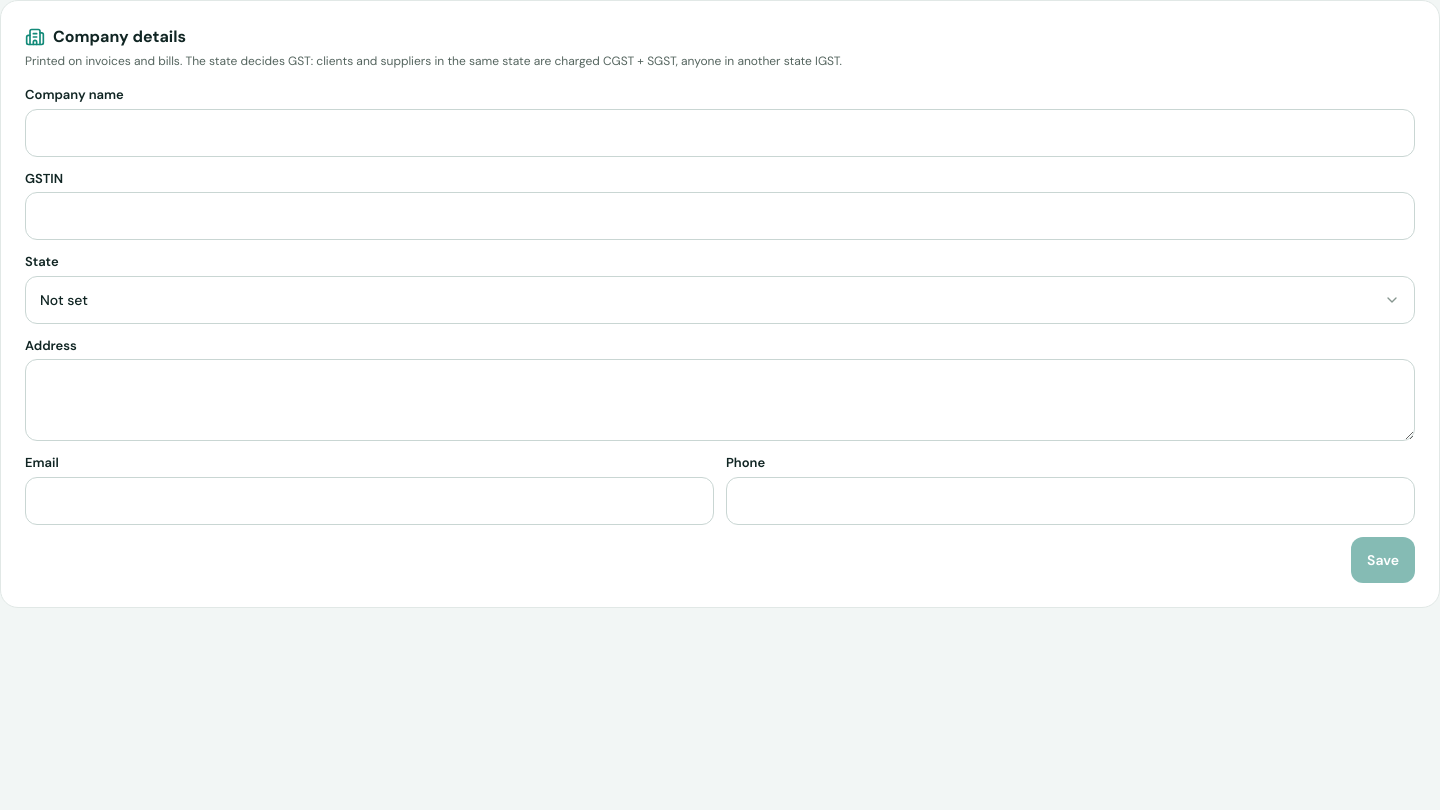
it: CompanyPanel › shows the error the server gives
Type "123" into the field labelled "GSTIN" at (720, 216), box top-left (25, 192), bottom-right (1415, 240)
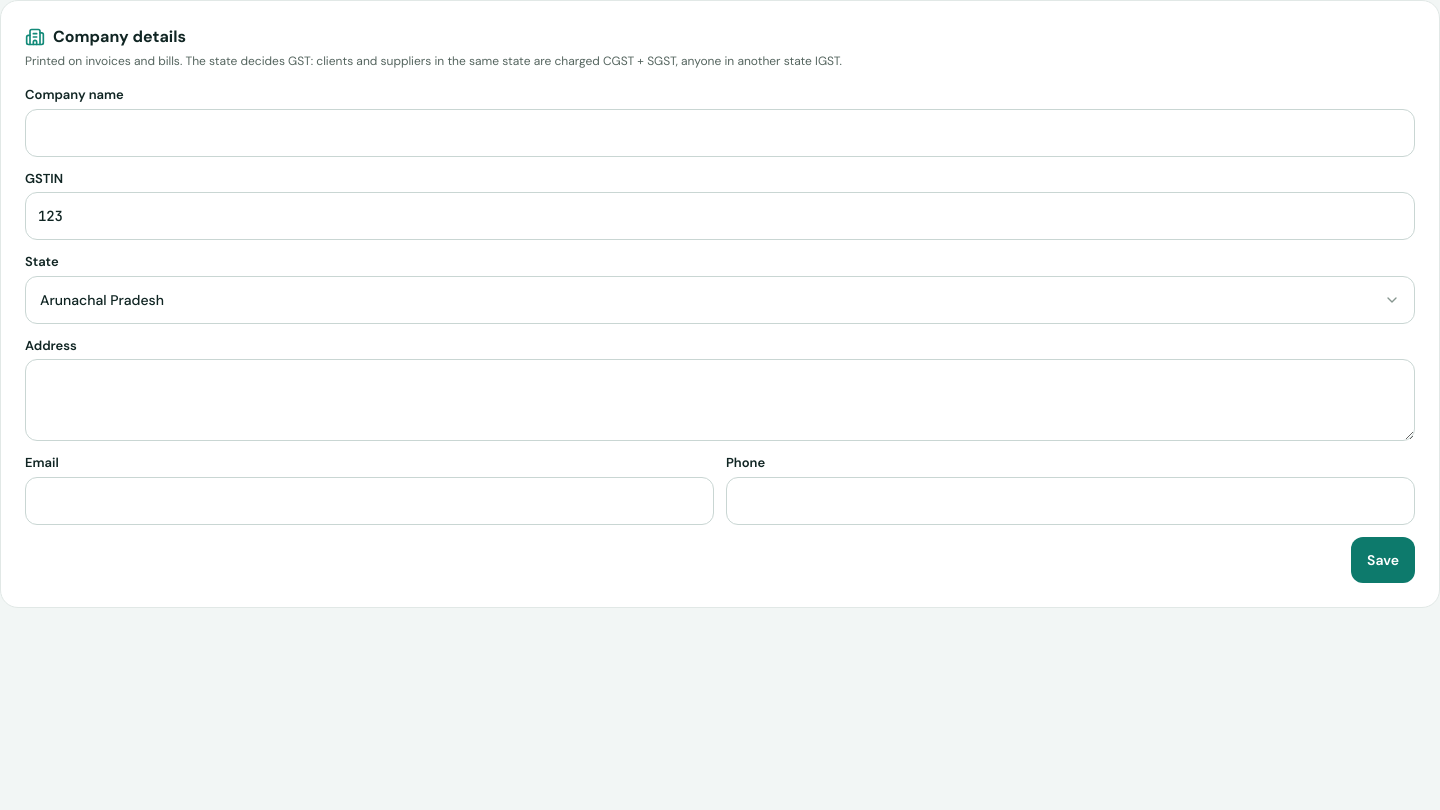
Click the button "Save" at (1383, 560), box top-left (1351, 536), bottom-right (1415, 582)
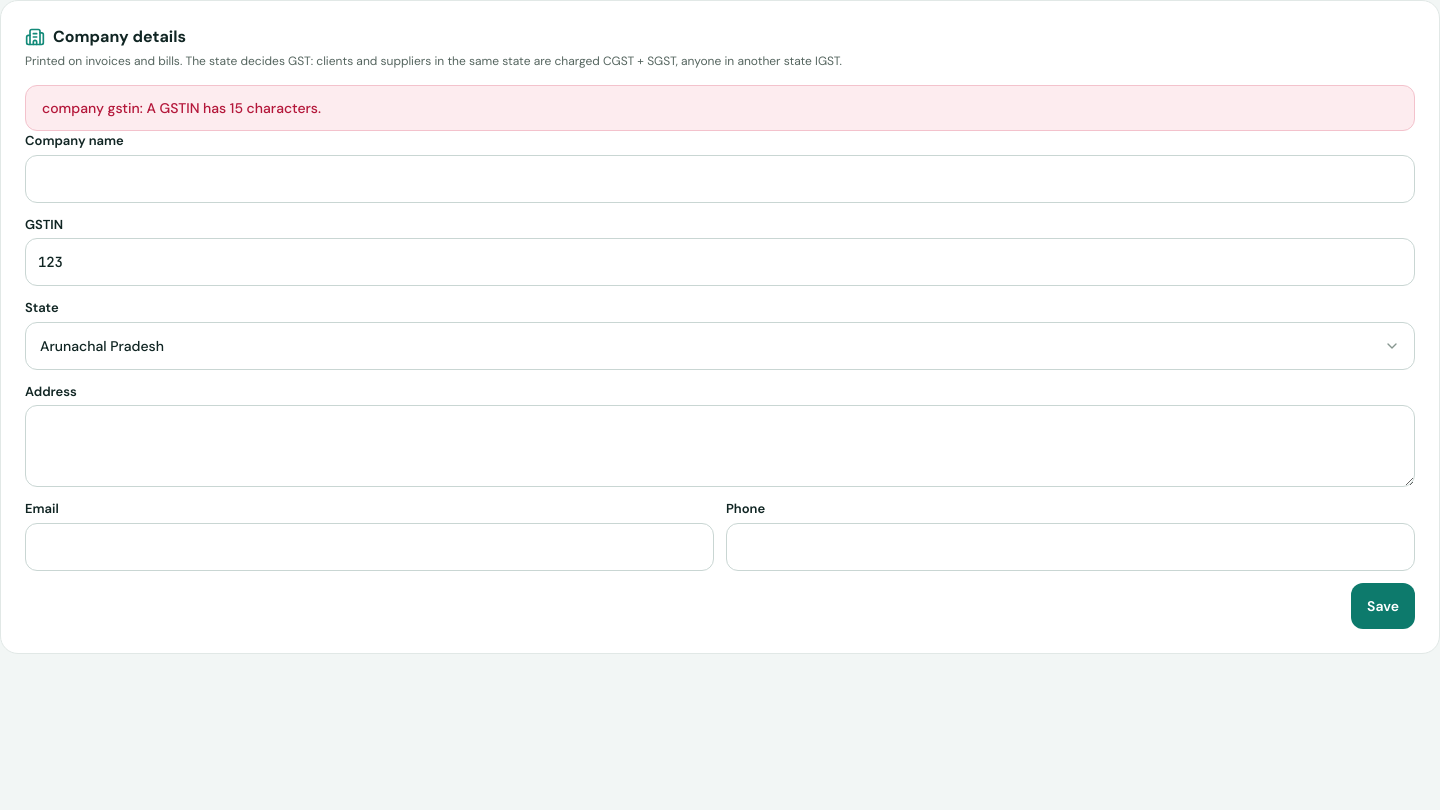
Now the text "company gstin: A GSTIN has 15 characters." is shown, box top-left (25, 85), bottom-right (1415, 131)
